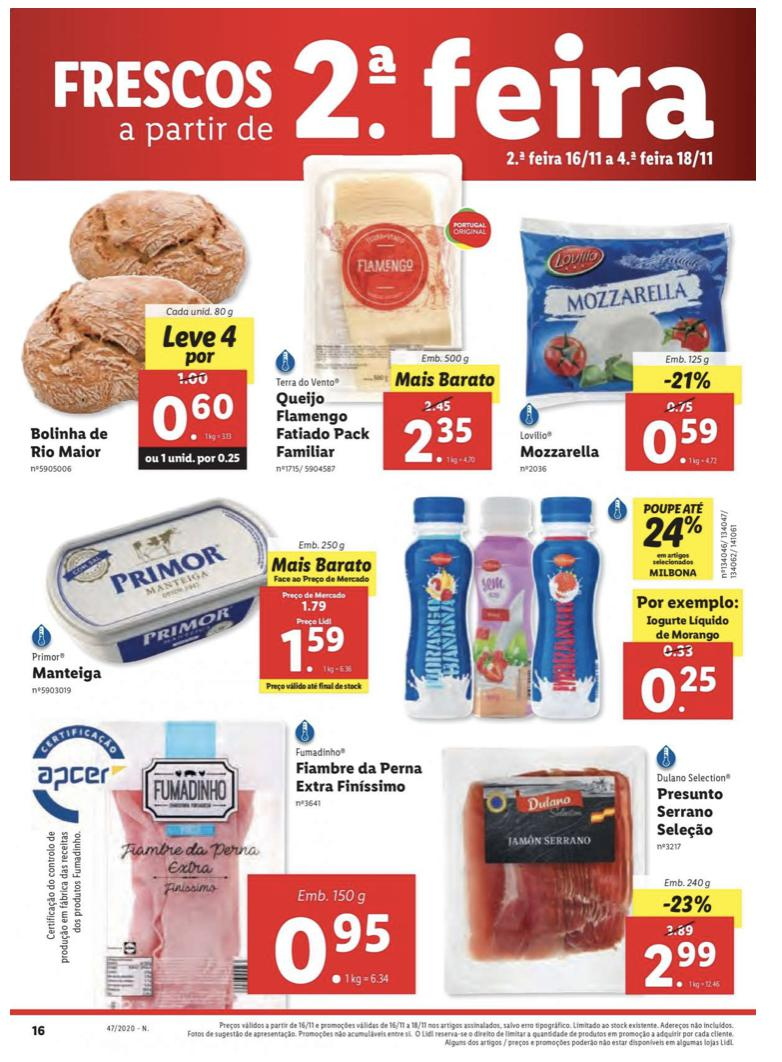name: (271, 390, 376, 461), (293, 759, 424, 795), (655, 789, 729, 840), (25, 422, 110, 458), (28, 662, 105, 686), (514, 443, 605, 461)
price: (272, 907, 403, 991), (141, 387, 245, 448), (637, 407, 735, 470), (272, 616, 364, 677), (633, 660, 724, 719), (396, 410, 485, 468), (642, 937, 729, 990)
product: (6, 710, 428, 1010), (6, 497, 388, 730), (428, 736, 746, 1010), (392, 489, 751, 731), (10, 181, 259, 489), (267, 165, 504, 483), (512, 206, 754, 480)
promotion: (639, 512, 710, 552), (658, 885, 716, 916), (663, 369, 714, 393)
